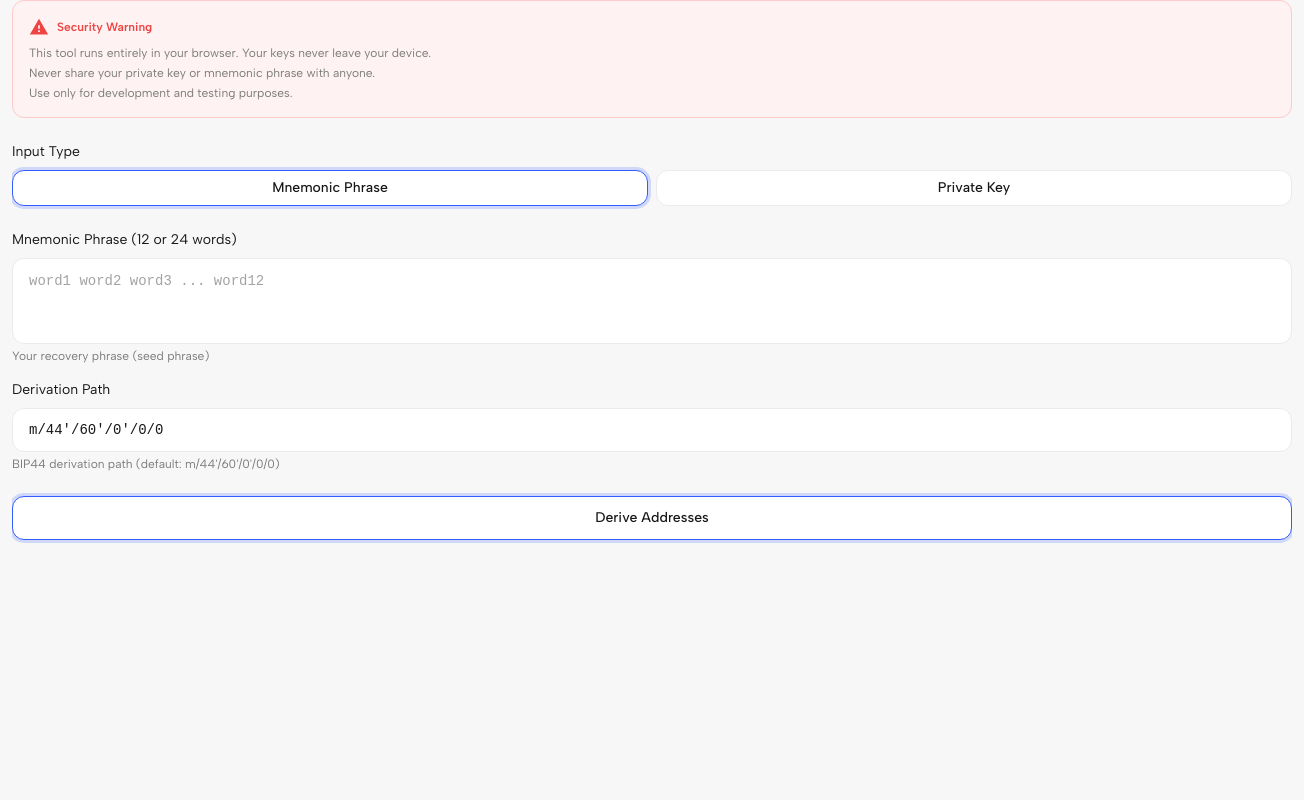
Test: MultiChainAddressDeriverTool › shows error for invalid mnemonic
Type "invalid mnemonic" into the text box with placeholder "word1 word2 word3 ... word12".
click(652, 301); type("invalid mnemonic")  # box top-left (12, 258), bottom-right (1292, 344)
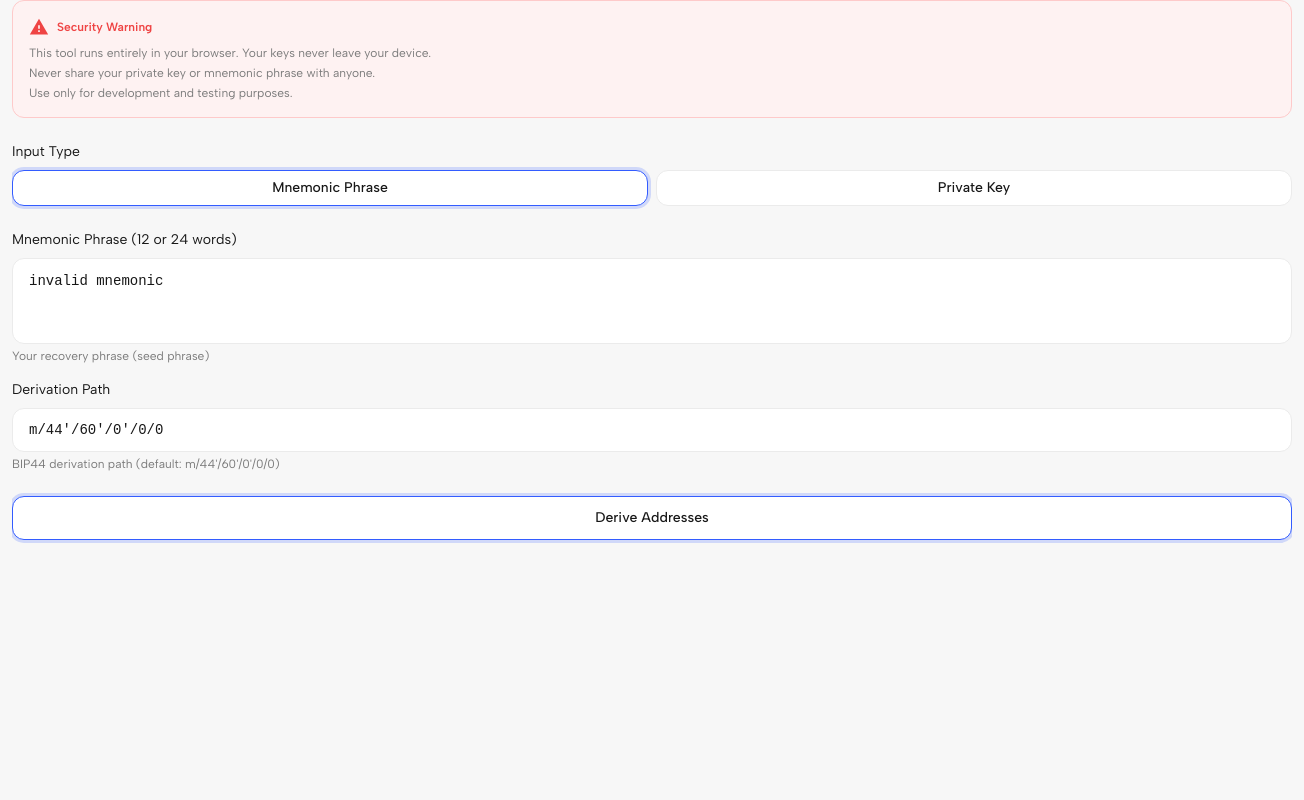
Click the button "Derive Addresses".
click(652, 518)  # box top-left (12, 496), bottom-right (1292, 540)
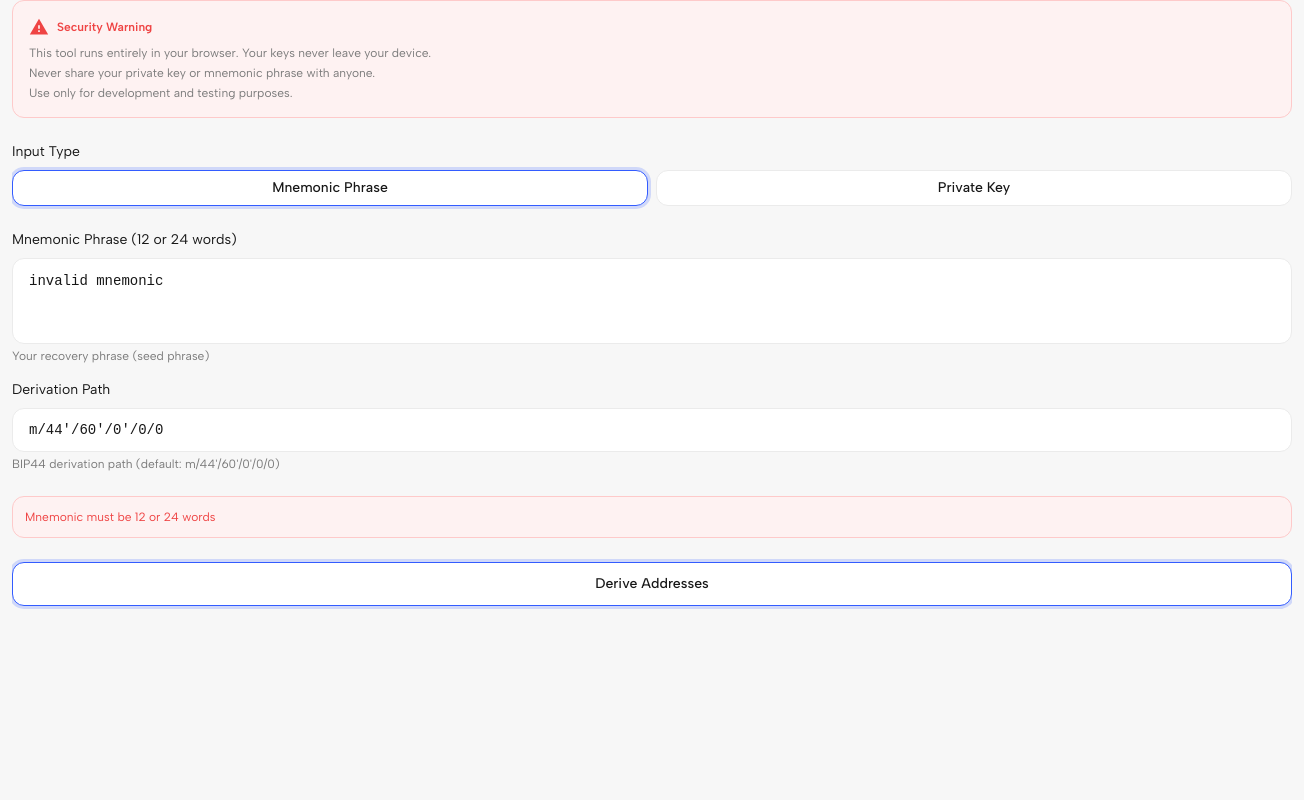
Expected: the text "Mnemonic must be 12 or 24 words" is shown, top-left (25, 510), bottom-right (215, 524)
